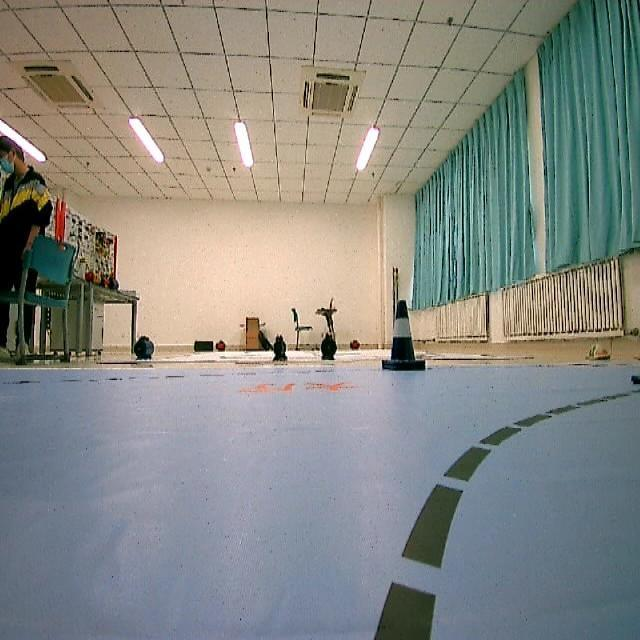obstacle: (381, 300, 434, 376)
